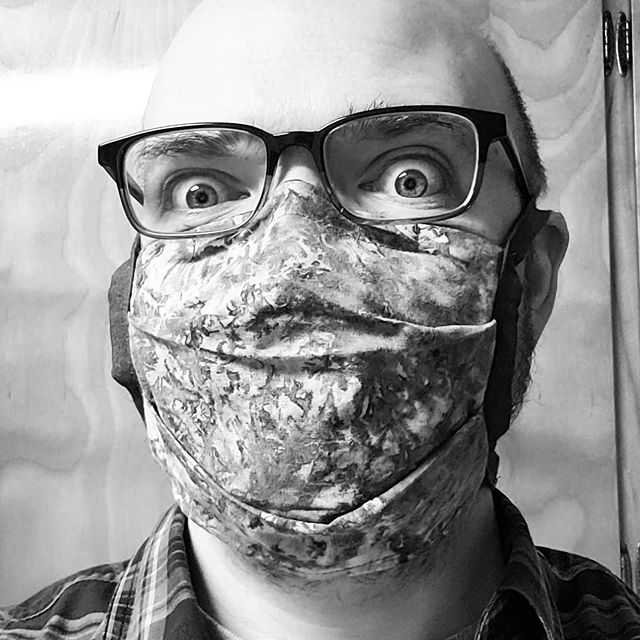homemade: (99, 184, 525, 575)
